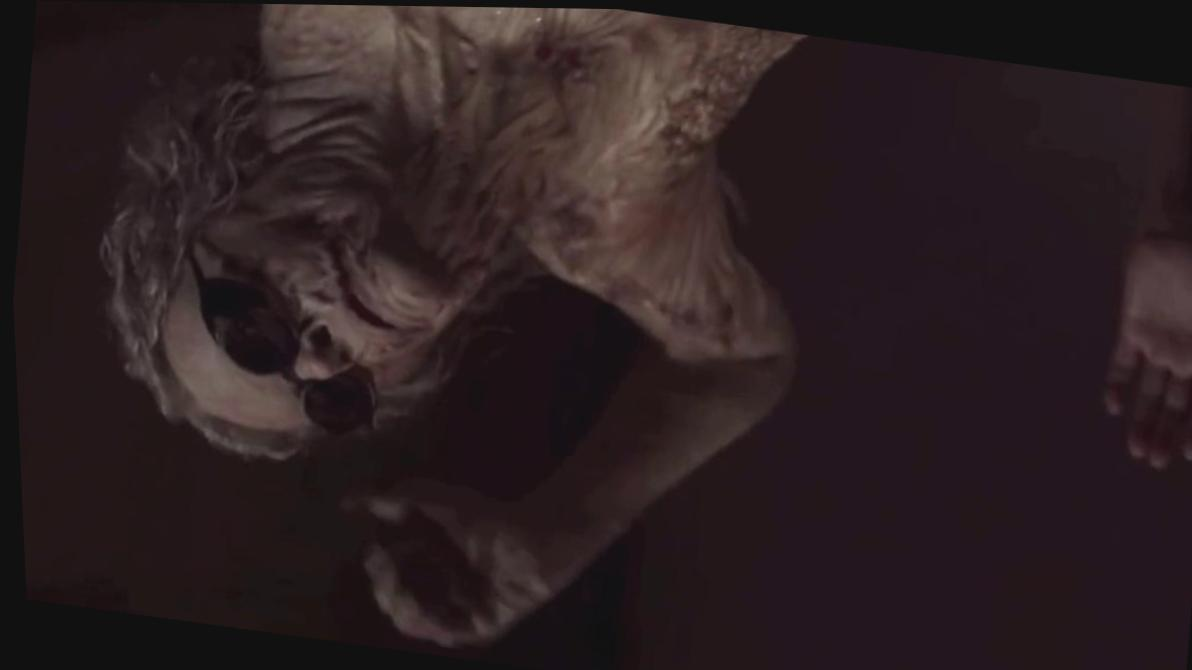Fire: (544, 210, 737, 353)
